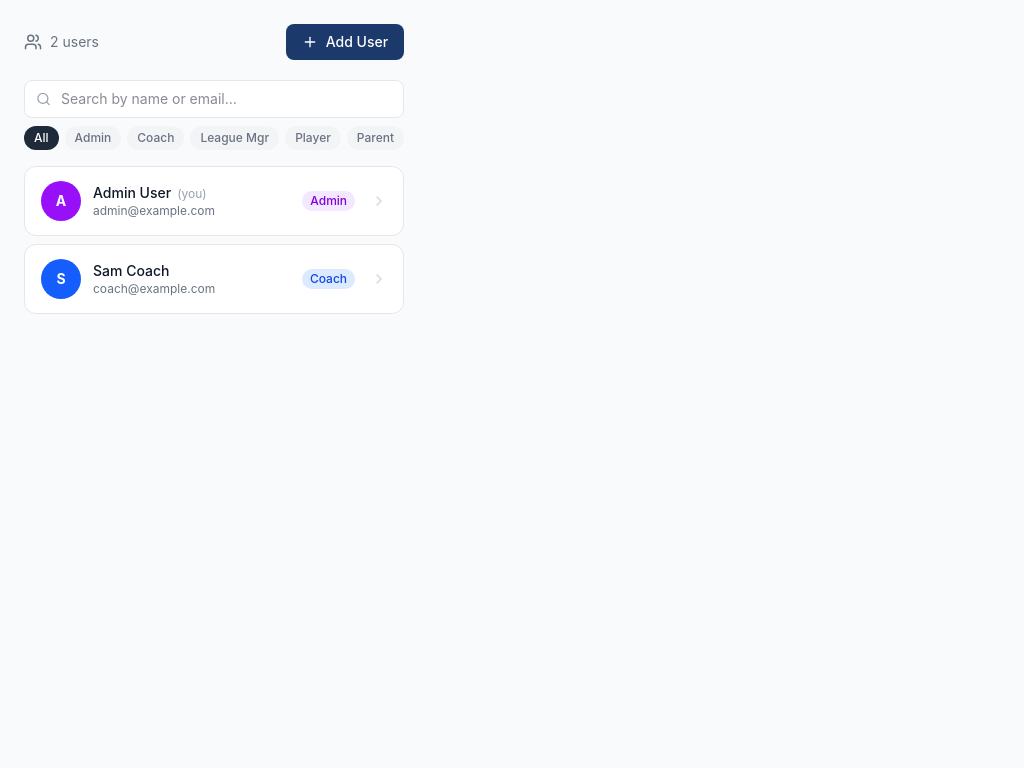
UsersPage — updateUser: optimistic display name update › Save Changes button enables when display name is edited
Expected: the text "Sam Coach" is shown, [93,262,170,279]
Click the button "S Sam Coach coach@example.com Coach": {"x": 214, "y": 279} [24,244,404,314]
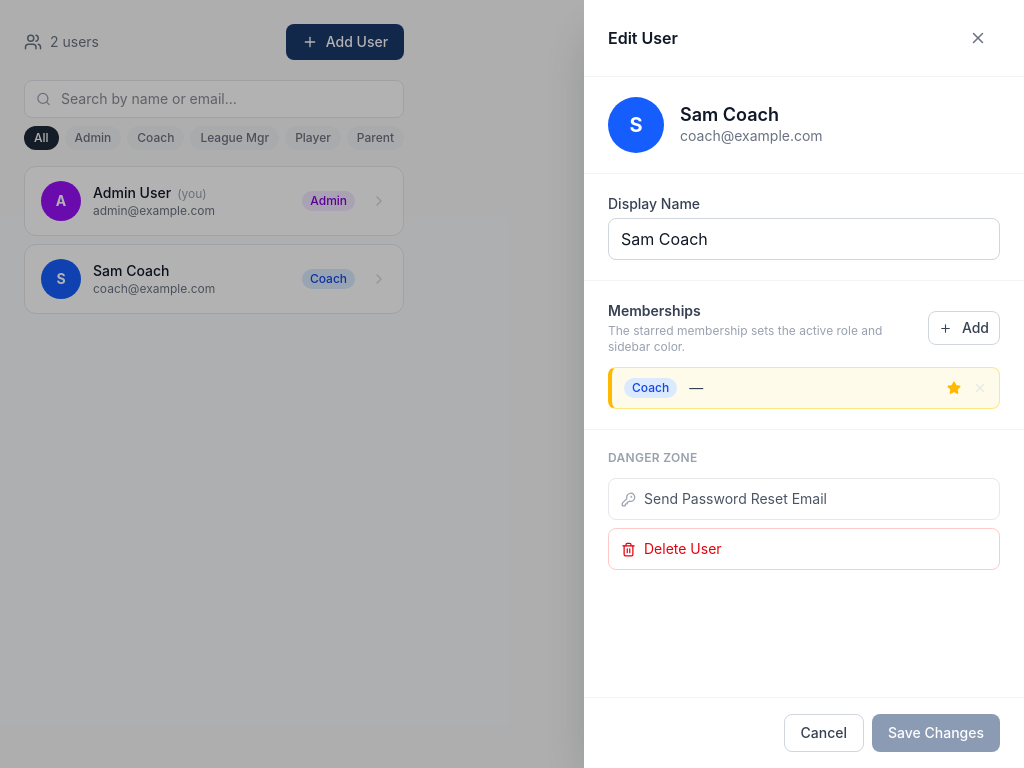
Replace the text in the field labelled "Display Name" with "Sam Updated": {"x": 804, "y": 239} [608,218,1000,260]
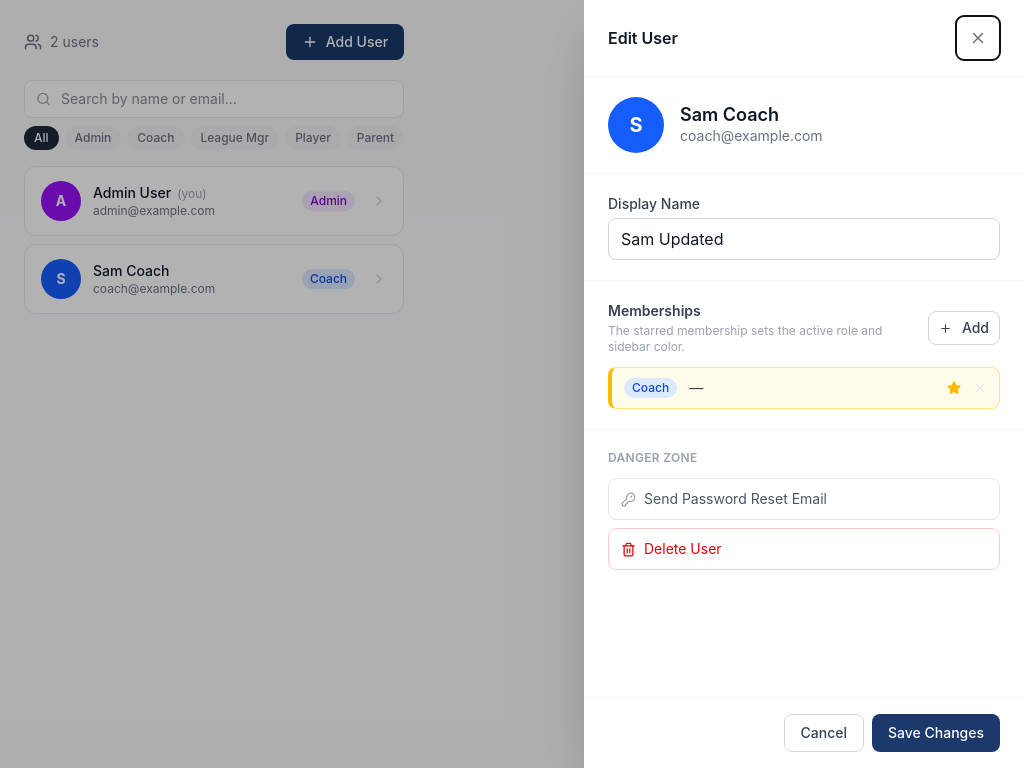
Expected: the button "Save Changes" is enabled, [872,714,1000,752]
